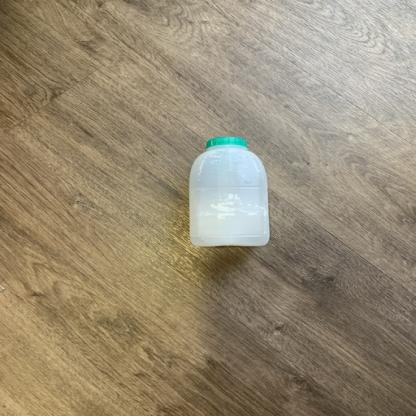trash: (187, 135, 272, 248)
